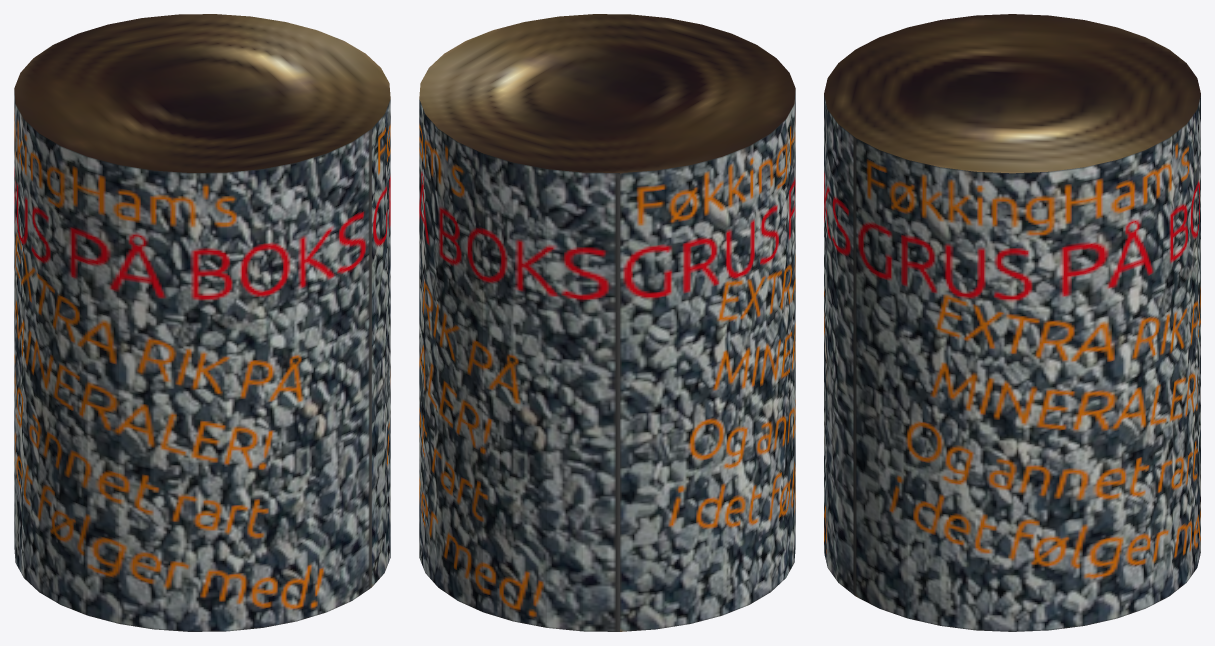
The model's file is GrusPåBoks.glb.
The picture shows the model from 3 angles, left to right: view 1: azimuth 30°, elevation 25°; view 2: azimuth 150°, elevation 25°; view 3: azimuth 270°, elevation 25°; orthographic projection.
Visible parts, largest first — view 1: GrusPåBoks; view 2: GrusPåBoks; view 3: GrusPåBoks.
Part boxes in pixels (box(x1,y1,x2,y2)): GrusPåBoks: box(14, 14, 390, 631); GrusPåBoks: box(419, 14, 795, 631); GrusPåBoks: box(824, 14, 1200, 631).
Bounding box in the file's own units: 2 × 2.69 × 2.
1 material, 1 textured.
